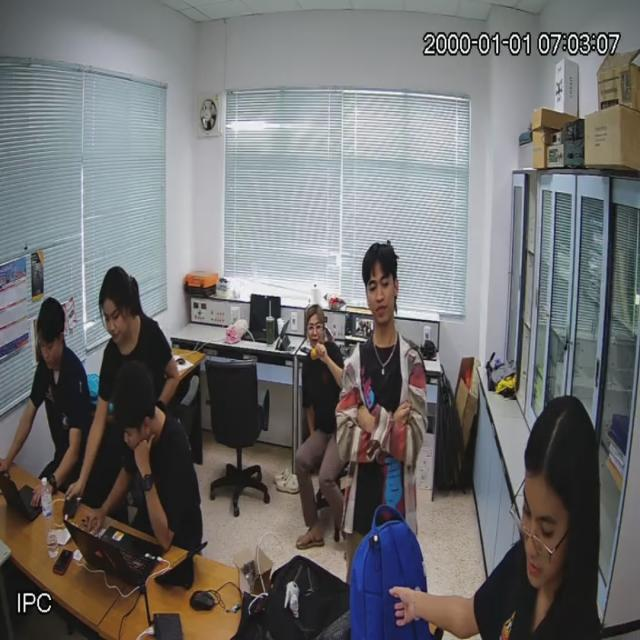normal: (335, 238, 419, 541), (98, 363, 207, 570), (0, 296, 85, 492)
